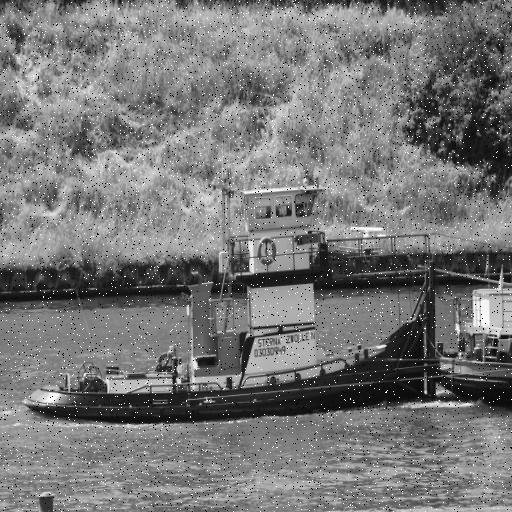tugboat: (19, 126, 450, 436)
